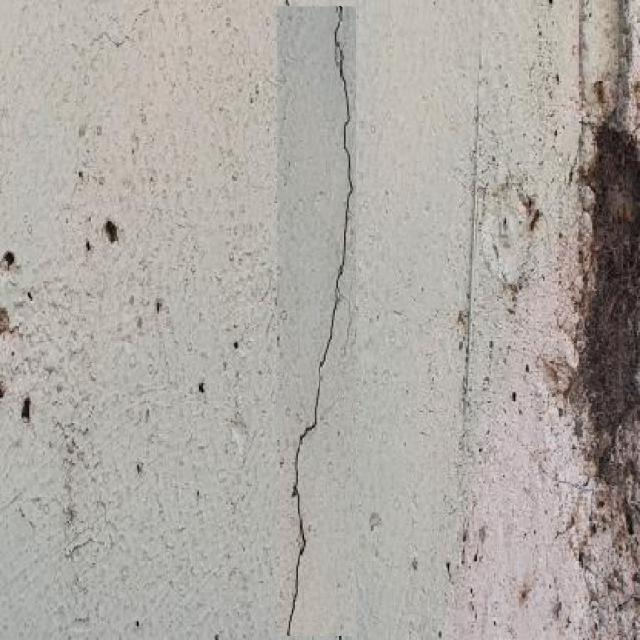Crack: (456, 15, 577, 630), (279, 1, 355, 638), (38, 209, 107, 640), (65, 13, 151, 286), (452, 24, 491, 624), (286, 426, 311, 638), (333, 5, 348, 88)
leak: (590, 112, 640, 611), (1, 249, 40, 415), (1, 251, 27, 321)
